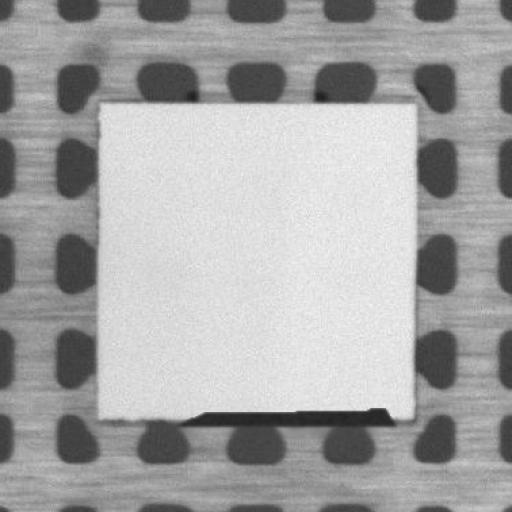DIE_BROKEN: (187, 404, 394, 425)
